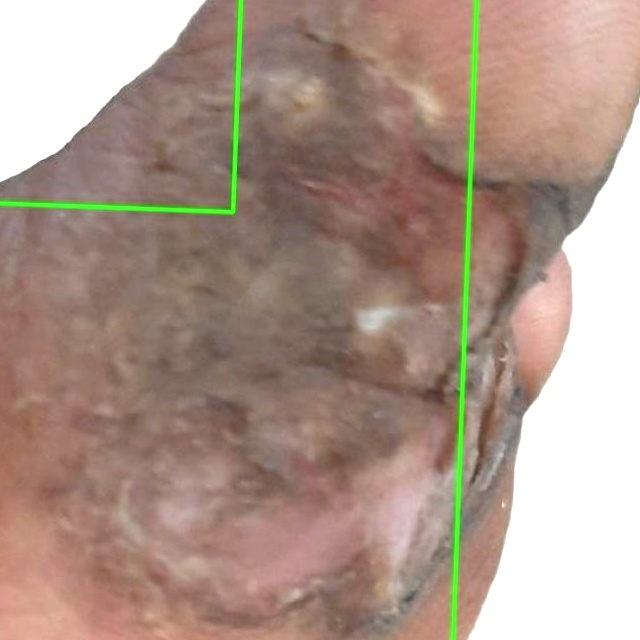Contact Dermatitis: (453, 0, 639, 639), (0, 0, 239, 210)
